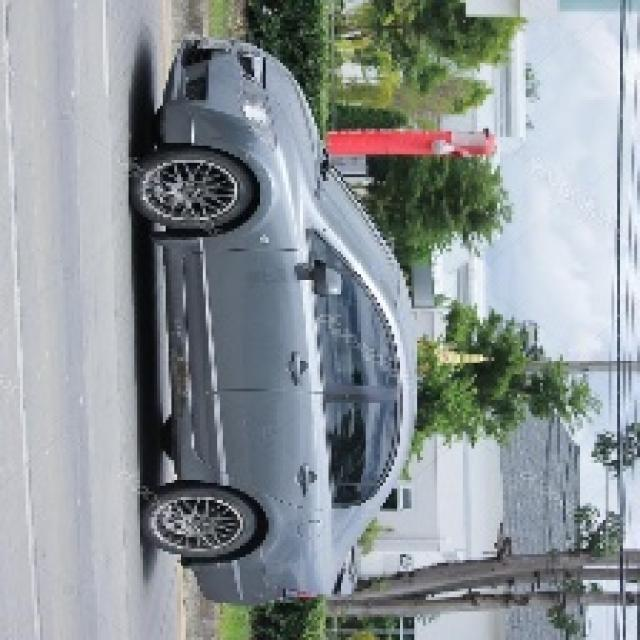car: (148, 28, 409, 606)
